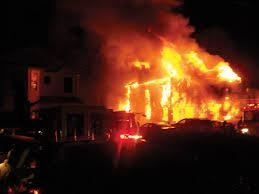fire: (117, 39, 249, 123)
